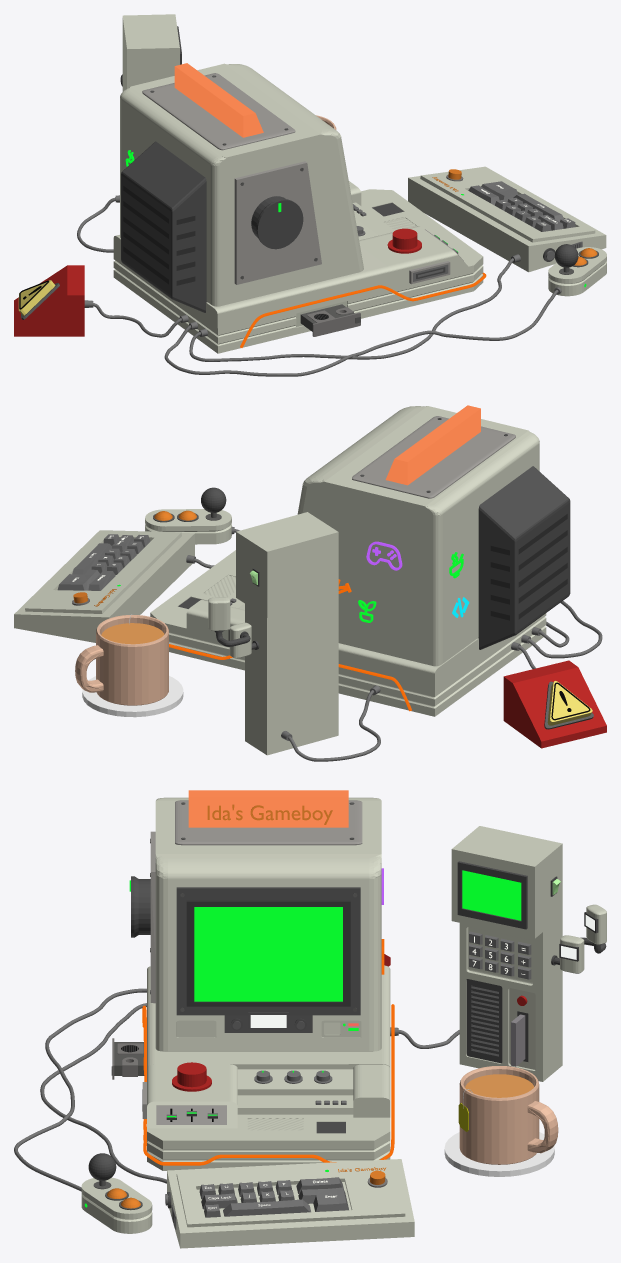
Rendered from 5d-portfolio-test5001.glb.
3 renders of one model, top to bottom at view 1: azimuth 30°, elevation 25°; view 2: azimuth 150°, elevation 25°; view 3: azimuth 270°, elevation 25°, orthographic. The views are drawn at different scales.
Visible parts, largest first — view 1: Chassis_upper-back-part, Parts2_Cube.065, Chassis_underside_part, Keyboard_keyboard_chassis, Chassis_Cube.013, Chassis_upper-front-part, Chassis_middle-back-part, Chassis_Cube.006, Calc_upper_calc_part, Parts2_Cube.066, cords, Orange_neon_sign (+9 smaller); view 2: Chassis_upper-back-part, Calc_underside_calc_part, Parts2_Cube.065, Keyboard_keyboard_chassis, Chassis_underside_part, Calc_upper_calc_part, Cup_cup, Parts2_Cube.066, Chassis_Cube.006, Orange_neon_sign, Chassis_middle-back-part, Chassis_upper-front-part (+14 smaller); view 3: Chassis_upper-front-part, Keyboard_keyboard_chassis, Green_gameboy_large_screen, Chassis_underside_part, Calc_underside_calc_part, Chassis_gameboy_large_screen_border_gray, Calc_upper_calc_part, Cup_cup, Orange_neon_sign, Chassis_middle-back-part, Chassis_Cube.006, Chassis_upper-back-part (+27 smaller).
Part boxes in pixels (x1=…): Chassis_upper-back-part: x1=120, y1=63, x2=343, y2=306; Parts2_Cube.065: x1=121, y1=141, x2=207, y2=312; Chassis_underside_part: x1=113, y1=189, x2=483, y2=353; Keyboard_keyboard_chassis: x1=408, y1=166, x2=606, y2=272; Chassis_Cube.013: x1=234, y1=161, x2=321, y2=284; Chassis_upper-front-part: x1=225, y1=64, x2=363, y2=276; Chassis_middle-back-part: x1=113, y1=235, x2=390, y2=328; Chassis_Cube.006: x1=142, y1=73, x2=295, y2=150; Calc_upper_calc_part: x1=122, y1=14, x2=179, y2=90; Parts2_Cube.066: x1=14, y1=265, x2=84, y2=336; cords: x1=164, y1=258, x2=558, y2=376; Orange_neon_sign: x1=174, y1=63, x2=263, y2=137; Chassis_upper-back-part: x1=318, y1=406, x2=539, y2=666; Calc_underside_calc_part: x1=245, y1=598, x2=338, y2=755; Parts2_Cube.065: x1=478, y1=466, x2=570, y2=649; Keyboard_keyboard_chassis: x1=14, y1=530, x2=194, y2=642; Chassis_underside_part: x1=150, y1=550, x2=546, y2=716; Calc_upper_calc_part: x1=236, y1=512, x2=338, y2=617; Cup_cup: x1=75, y1=615, x2=168, y2=705; Parts2_Cube.066: x1=503, y1=660, x2=606, y2=748; Chassis_Cube.006: x1=352, y1=416, x2=515, y2=498; Orange_neon_sign: x1=385, y1=405, x2=480, y2=485; Chassis_middle-back-part: x1=338, y1=638, x2=499, y2=688; Chassis_upper-front-part: x1=297, y1=406, x2=427, y2=518; Chassis_upper-front-part: x1=155, y1=854, x2=381, y2=1051; Keyboard_keyboard_chassis: x1=167, y1=1159, x2=414, y2=1248; Green_gameboy_large_screen: x1=194, y1=907, x2=342, y2=1001; Chassis_underside_part: x1=147, y1=1114, x2=390, y2=1170; Calc_underside_calc_part: x1=459, y1=916, x2=562, y2=1081; Chassis_gameboy_large_screen_border_gray: x1=176, y1=887, x2=360, y2=1015; Calc_upper_calc_part: x1=451, y1=826, x2=562, y2=938; Cup_cup: x1=459, y1=1066, x2=558, y2=1164; Orange_neon_sign: x1=188, y1=790, x2=348, y2=827; Chassis_middle-back-part: x1=147, y1=965, x2=390, y2=1069; Chassis_Cube.006: x1=175, y1=800, x2=362, y2=845; Chassis_upper-back-part: x1=155, y1=797, x2=381, y2=853.
Size of what is drawn, in the model's own units: 124 by 48.62 by 102.
